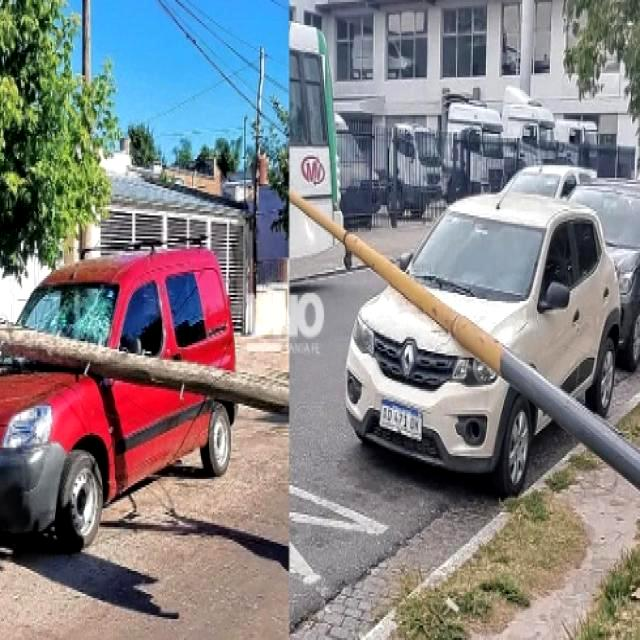Broken Pole: (288, 189, 638, 488), (1, 323, 287, 413)
